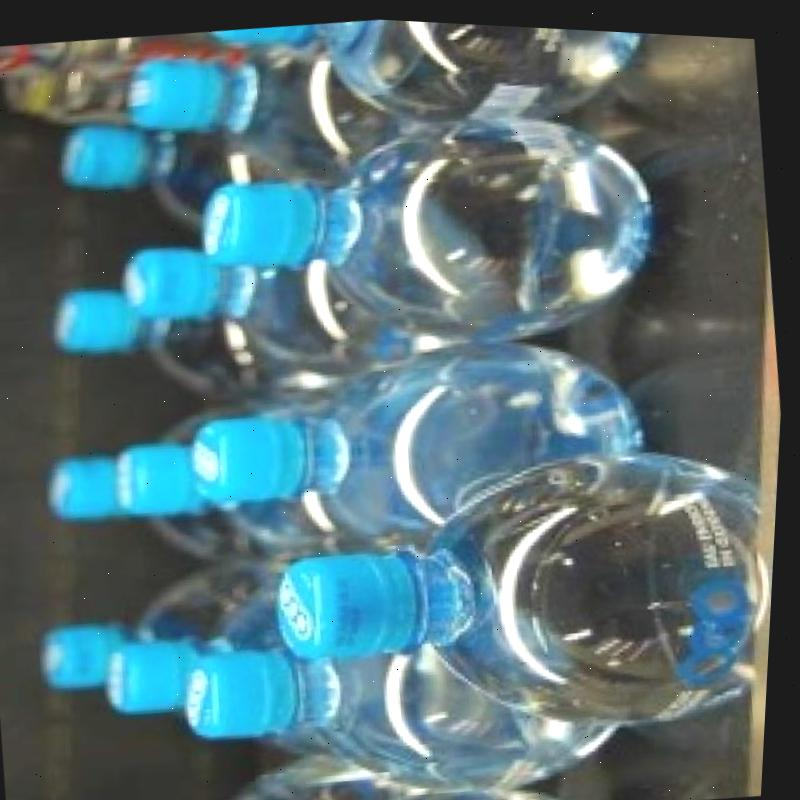botella: (260, 410, 784, 767), (192, 85, 670, 375), (177, 306, 657, 572), (184, 600, 642, 800), (204, 9, 660, 152), (113, 25, 415, 205), (119, 216, 406, 387), (37, 547, 281, 705), (114, 418, 337, 569), (48, 265, 235, 409), (102, 589, 294, 724), (56, 111, 224, 253), (201, 734, 406, 800), (352, 761, 592, 800), (51, 445, 141, 529)
